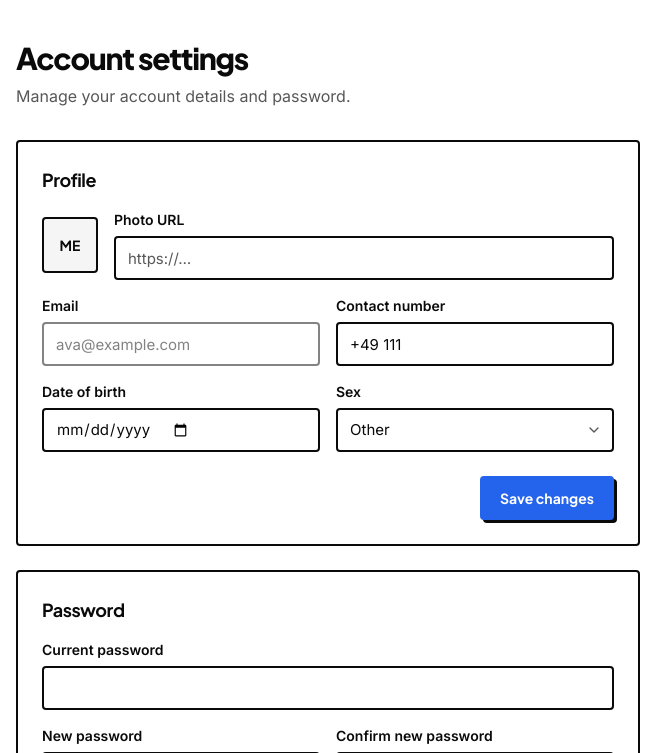
Settings › surfaces the backend 400 message when the current password is wrong
Type "wrongpassword" into the password field labelled "Current password".
click(328, 688); type("wrongpassword")  # box [42, 666, 614, 710]
(page scrolled)
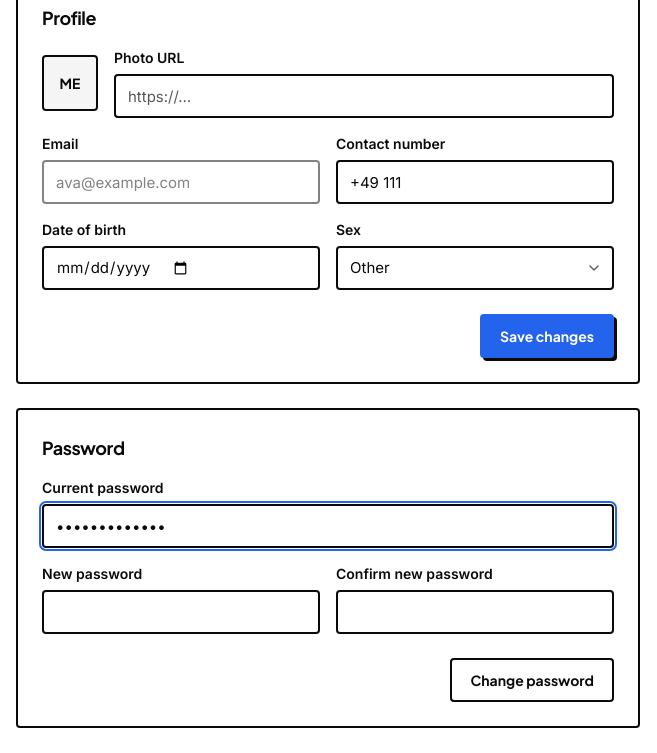
Type "newpassword1" into the password field labelled "New password".
click(181, 612); type("newpassword1")  # box [42, 590, 320, 634]
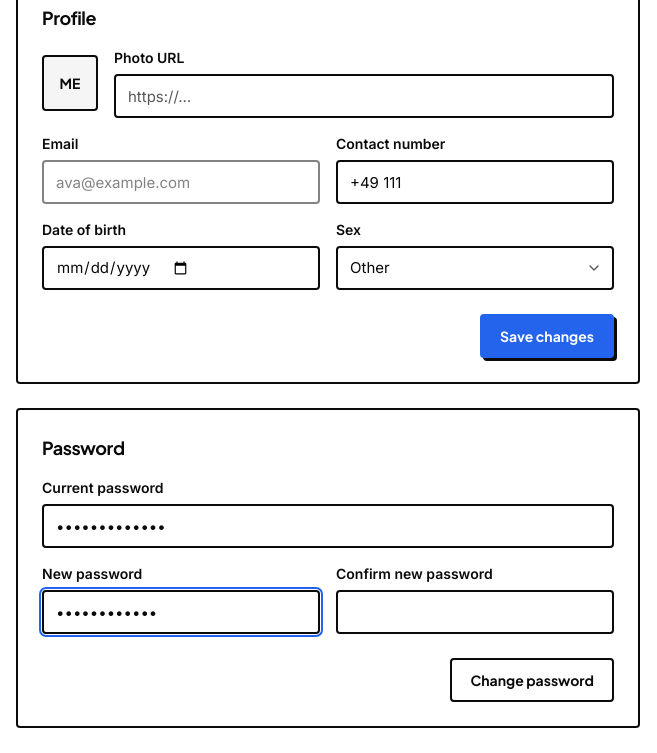
Type "newpassword1" into the password field labelled "Confirm new password".
click(475, 612); type("newpassword1")  # box [336, 590, 614, 634]
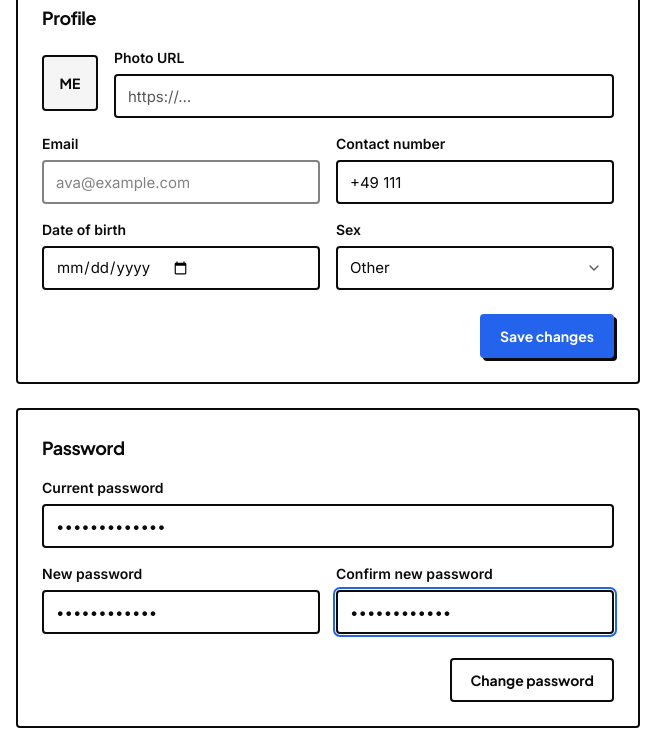
Click the button "Change password".
click(532, 680)  # box [450, 658, 614, 702]
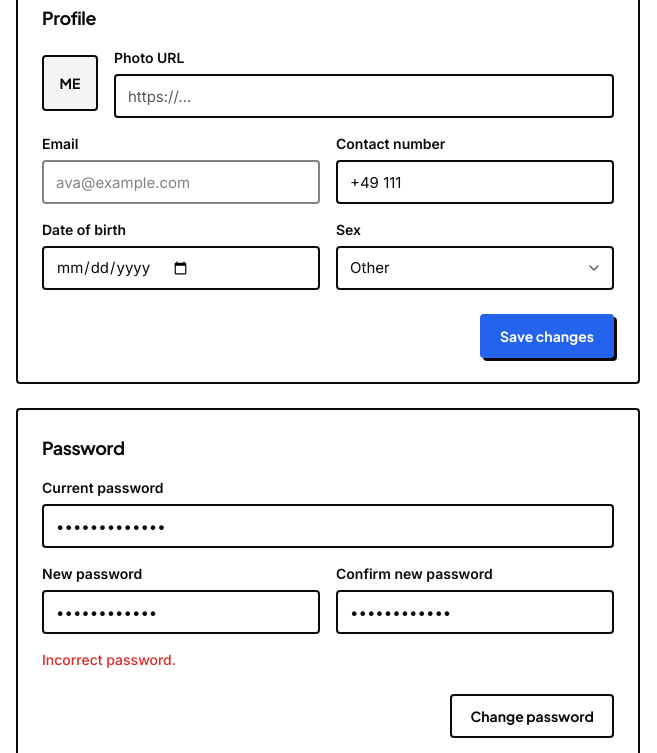
Expected: the text "Incorrect password." is shown, [42, 651, 176, 668]
